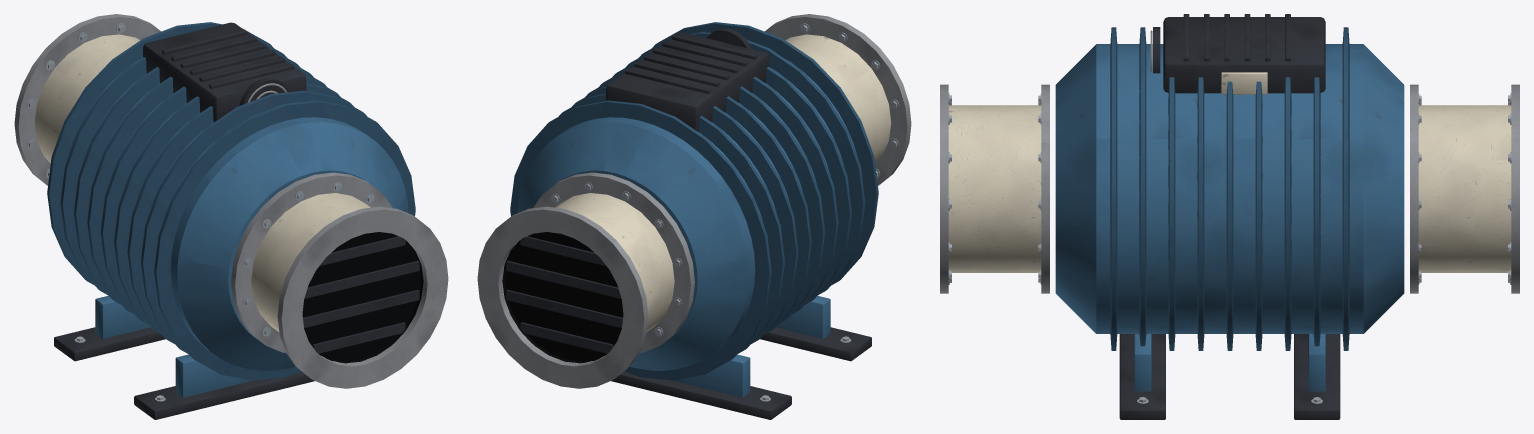
The model's file is main_pipe_compressor.glb.
The picture shows the model from 3 angles, left to right: view 1: azimuth 30°, elevation 25°; view 2: azimuth 150°, elevation 25°; view 3: azimuth 270°, elevation 25°; orthographic projection. The views are drawn at different scales.
Parts seen in each view (by area): view 1: Body.011; view 2: Body.011; view 3: Body.011.
Boxes of the visible parts, x1,y1,x2,y2 form: Body.011: (14, 14, 448, 419); Body.011: (477, 14, 911, 419); Body.011: (940, 14, 1519, 419).
Size of the model in its own units: 1.12 by 1.23 by 2.
8 materials, 7 textured.
